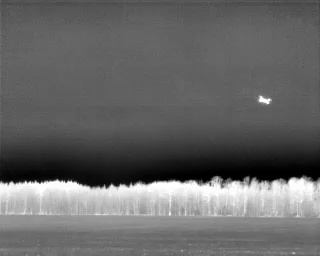DRONE: (254, 91, 275, 109)
